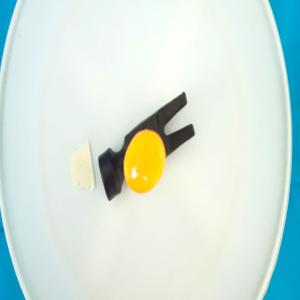martelo: (98, 91, 196, 202)
